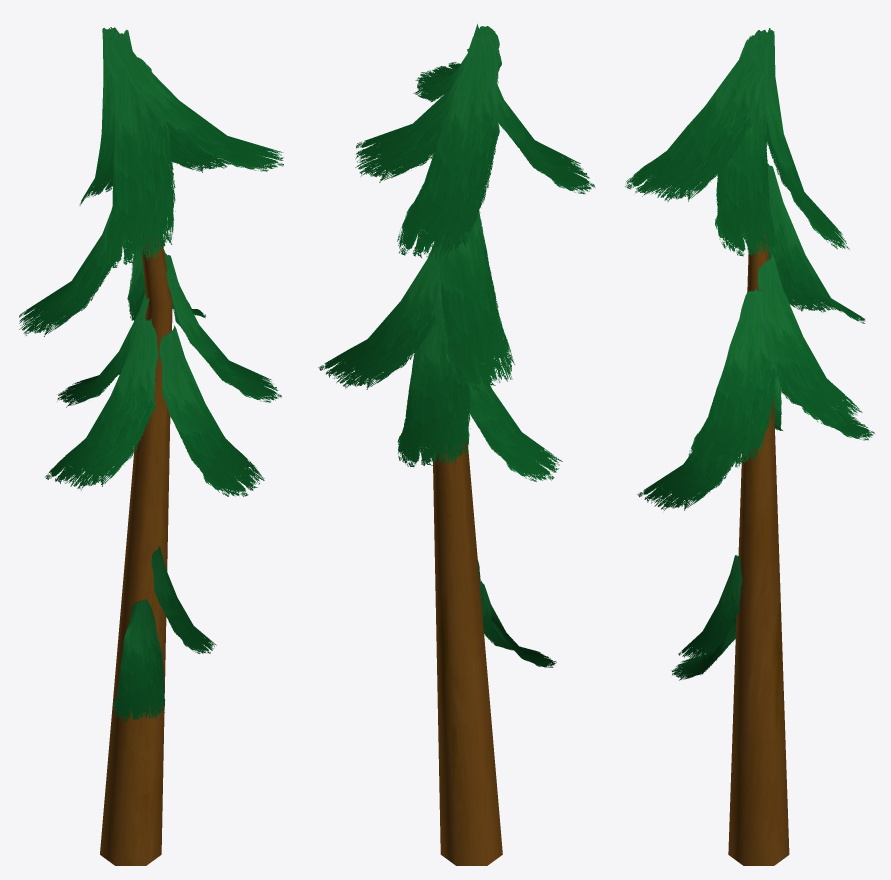
File: SM_Tree2_02.fbx
3 renders of one model, left to right at view 1: azimuth 30°, elevation 25°; view 2: azimuth 150°, elevation 25°; view 3: azimuth 270°, elevation 25°, orthographic.
Visible parts, largest first — view 1: SM_Tree2_02_LOD0; view 2: SM_Tree2_02_LOD0; view 3: SM_Tree2_02_LOD0.
Boxes of the visible parts, box(x1,y1,x2,y2) form: SM_Tree2_02_LOD0: box(19, 27, 283, 865); SM_Tree2_02_LOD0: box(318, 24, 595, 865); SM_Tree2_02_LOD0: box(625, 28, 874, 865).
Size of what is drawn, in the model's own units: 243 by 912 by 251.
